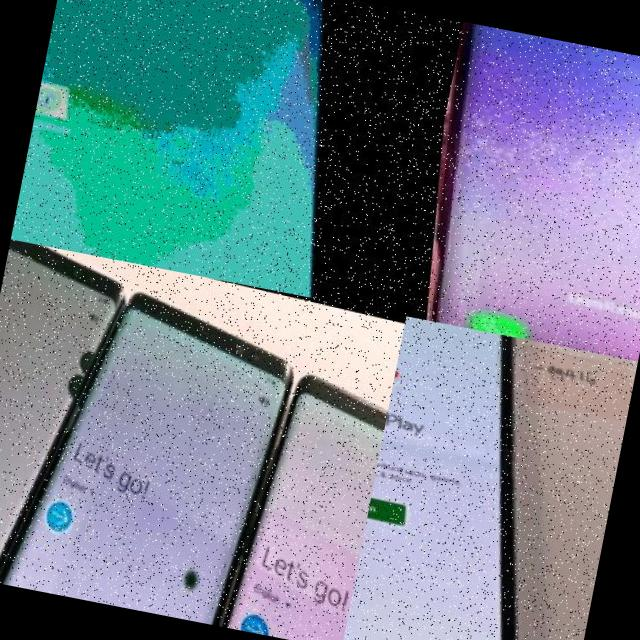dead pixel: (39, 325, 116, 412), (162, 556, 200, 597)
